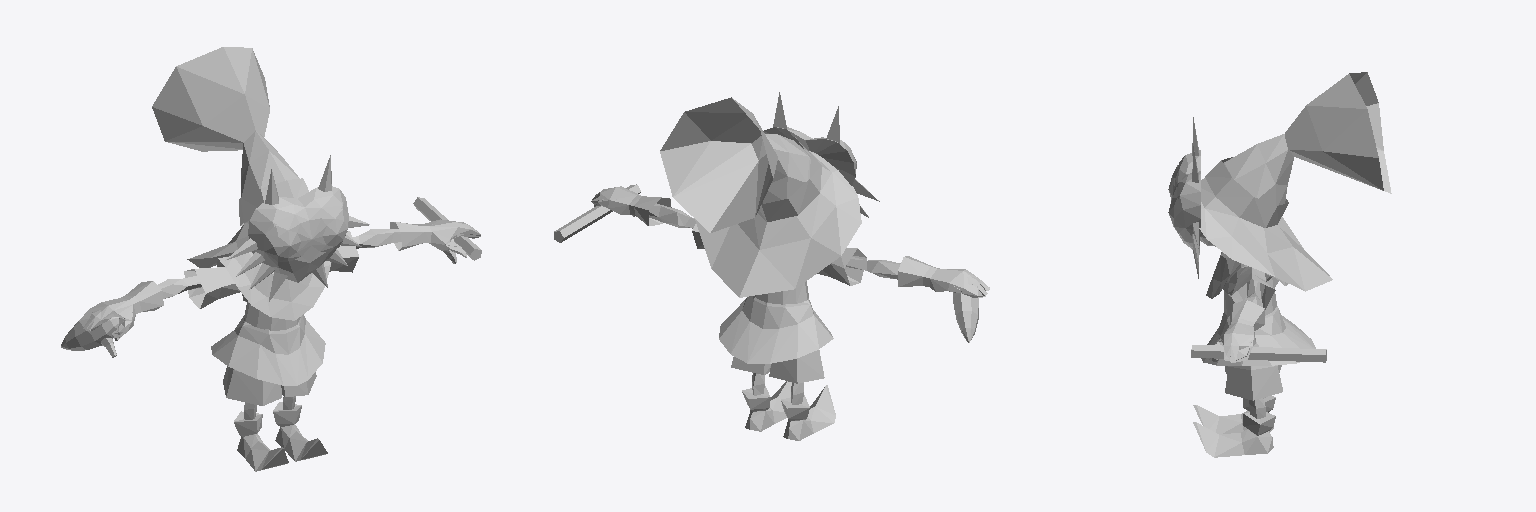
File: SkullKid.obj
3 views of the same model, side by side, from view 1: azimuth 30°, elevation 25°; view 2: azimuth 150°, elevation 25°; view 3: azimuth 270°, elevation 25° (orthographic).
Visible parts, largest first — view 1: nodes_27__meshes[2], nodes_32__meshes[7], nodes_40__meshes[15], nodes_26__meshes[1], nodes_38__meshes[13], nodes_41__meshes[16], nodes_35__meshes[10], nodes_33__meshes[8], nodes_39__meshes[14]; view 2: nodes_27__meshes[2], nodes_32__meshes[7], nodes_40__meshes[15], nodes_38__meshes[13], nodes_35__meshes[10], nodes_41__meshes[16], nodes_39__meshes[14]; view 3: nodes_27__meshes[2], nodes_32__meshes[7], nodes_38__meshes[13], nodes_40__meshes[15], nodes_39__meshes[14], nodes_33__meshes[8].
Part boxes in pixels (bbox=[...]): nodes_27__meshes[2]: bbox=[121, 48, 431, 471]; nodes_32__meshes[7]: bbox=[152, 47, 299, 267]; nodes_40__meshes[15]: bbox=[225, 155, 369, 301]; nodes_26__meshes[1]: bbox=[264, 209, 348, 261]; nodes_38__meshes[13]: bbox=[239, 178, 308, 330]; nodes_41__meshes[16]: bbox=[61, 317, 119, 357]; nodes_35__meshes[10]: bbox=[79, 298, 135, 338]; nodes_33__meshes[8]: bbox=[430, 219, 480, 263]; nodes_39__meshes[14]: bbox=[413, 197, 481, 260]; nodes_27__meshes[2]: bbox=[629, 98, 939, 440]; nodes_32__meshes[7]: bbox=[660, 97, 861, 297]; nodes_40__meshes[15]: bbox=[763, 92, 879, 217]; nodes_38__meshes[13]: bbox=[755, 137, 821, 304]; nodes_35__meshes[10]: bbox=[930, 269, 989, 297]; nodes_41__meshes[16]: bbox=[953, 292, 978, 342]; nodes_39__meshes[14]: bbox=[554, 184, 640, 242]; nodes_27__meshes[2]: bbox=[1193, 72, 1390, 457]; nodes_32__meshes[7]: bbox=[1200, 72, 1391, 290]; nodes_38__meshes[13]: bbox=[1205, 157, 1288, 316]; nodes_40__meshes[15]: bbox=[1174, 117, 1200, 278]; nodes_39__meshes[14]: bbox=[1191, 345, 1326, 362]; nodes_33__meshes[8]: bbox=[1212, 323, 1253, 361].
Bounding box in the file's own units: 5917 × 5217 × 2877.